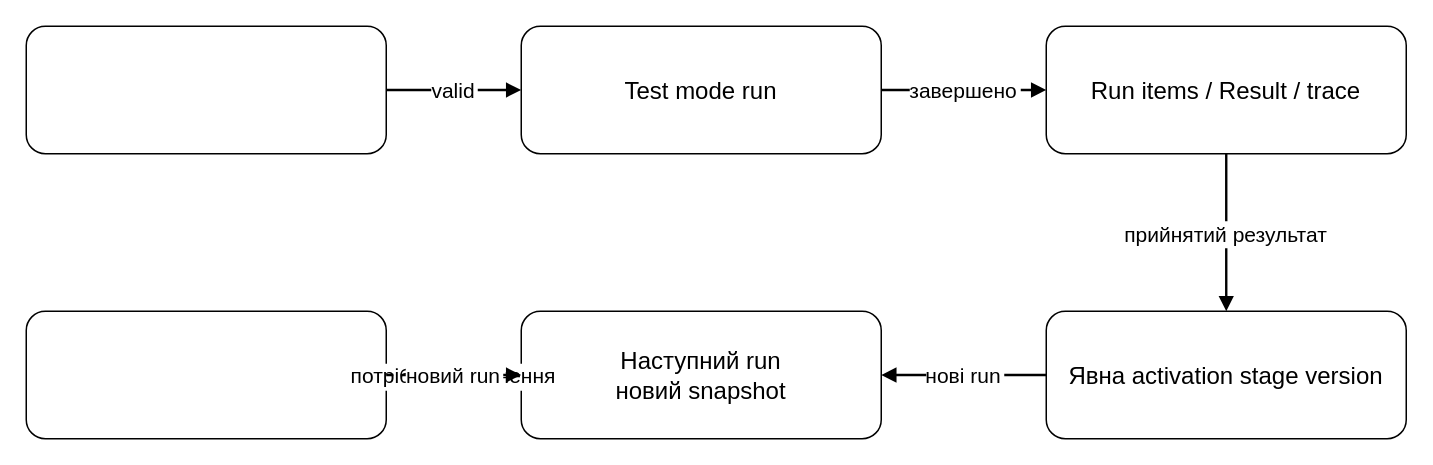
Some shapes in this 1433 by 465 pixel diagram are drawn without their labels. The centre of each missing label's shape, as x and y in pixels:
Rollback stage package впливає на майбутнє: the point at 205,374
Перевірити source / DAG / package: the point at 205,89
